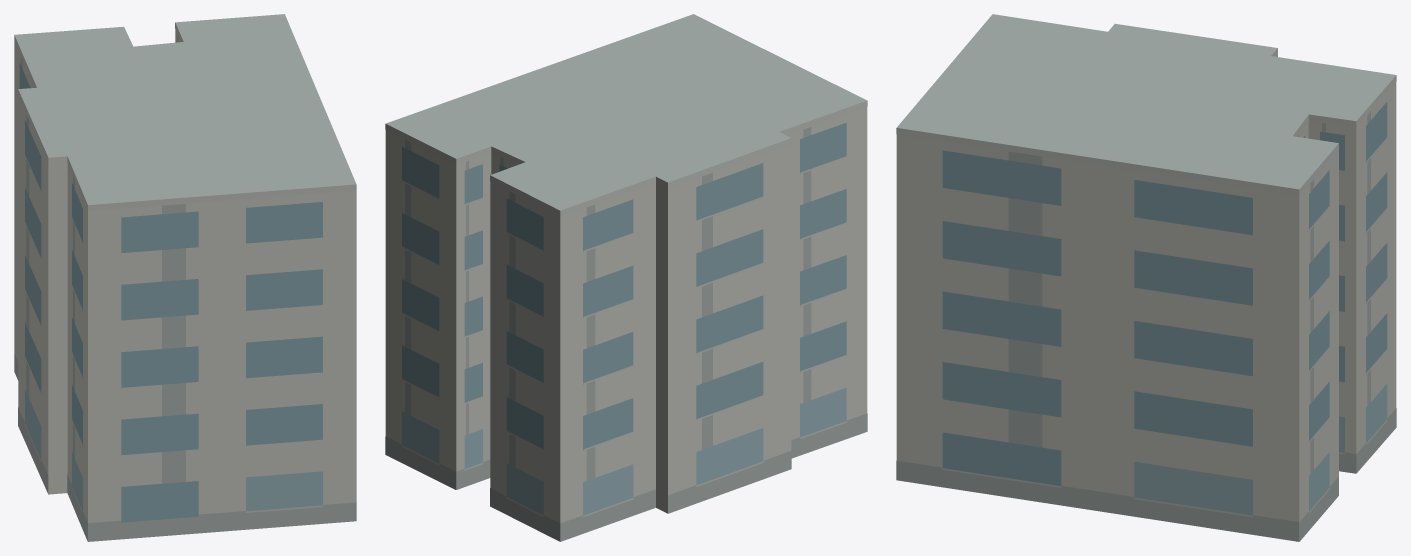
The model's file is survey-upis-32887499.glb.
3 views of the same model, side by side, from view 1: azimuth 30°, elevation 25°; view 2: azimuth 150°, elevation 25°; view 3: azimuth 270°, elevation 25° (orthographic). The views are drawn at different scales.
Parts seen in each view (by area): view 1: survey-upis-32887499.tmp; view 2: survey-upis-32887499.tmp; view 3: survey-upis-32887499.tmp.
Part boxes in pixels (x1,y1,x2,y2): survey-upis-32887499.tmp: [14, 14, 356, 541]; survey-upis-32887499.tmp: [385, 14, 867, 541]; survey-upis-32887499.tmp: [896, 14, 1396, 541].
Size of the model in its own units: 13.89 by 13 by 16.72.
